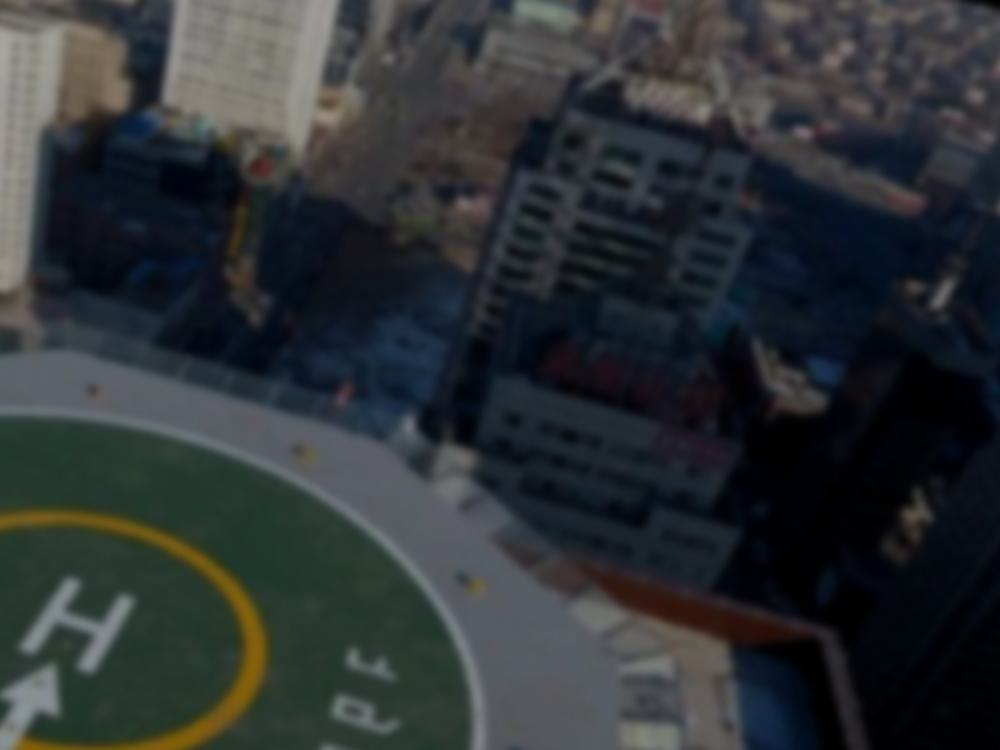Apron: (4, 492, 269, 700)
